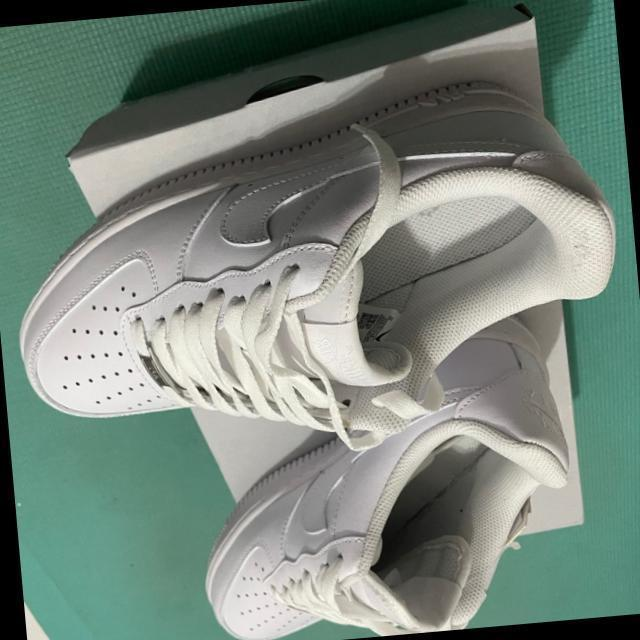nike original air force: (0, 61, 640, 467), (179, 302, 615, 640)
